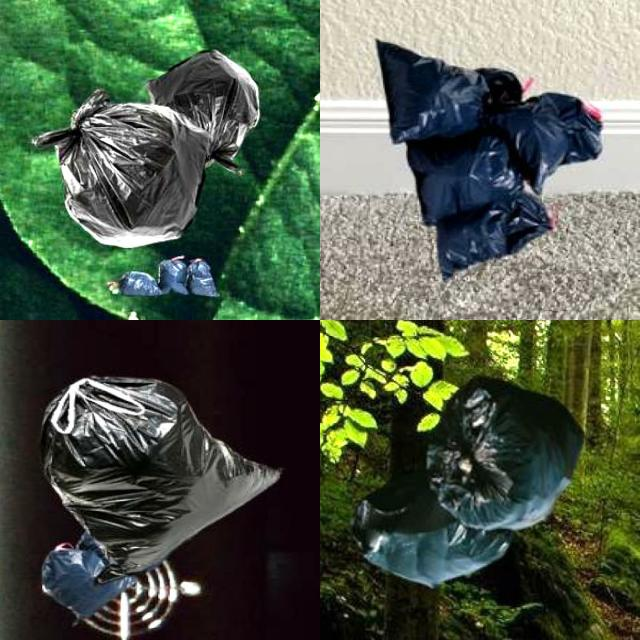Single-layer Plastic: (378, 41, 602, 280), (41, 376, 281, 580), (34, 90, 210, 248), (426, 378, 584, 531), (352, 471, 512, 588), (149, 51, 259, 166)
